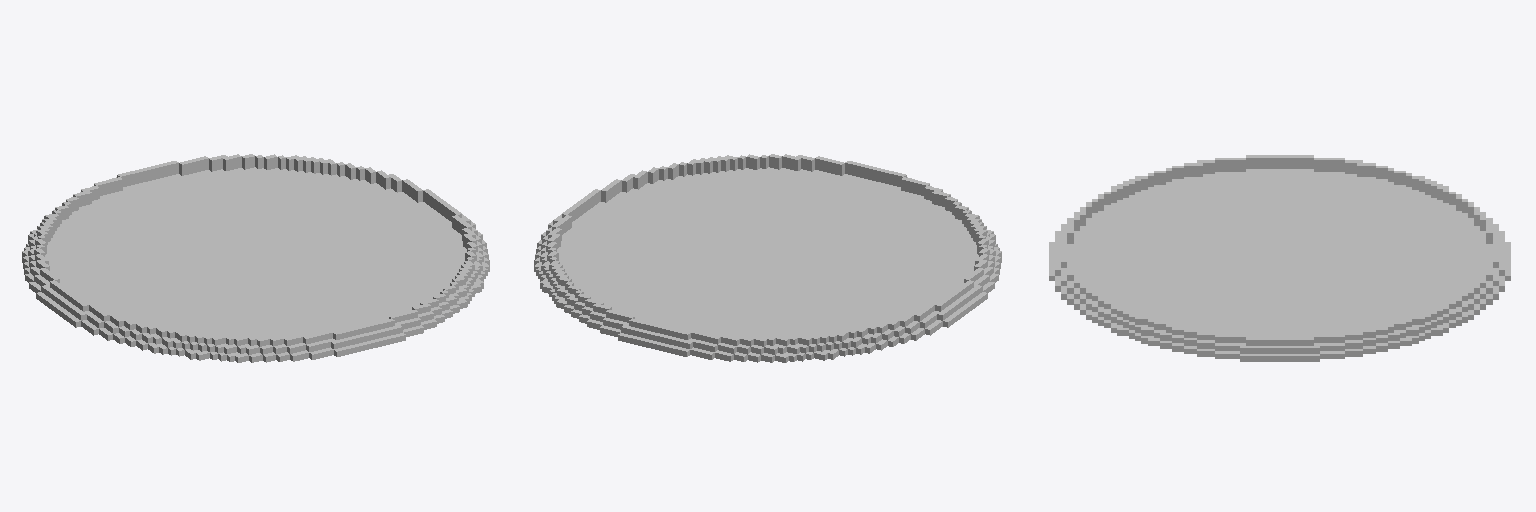
The model's file is pressure plate(nobuttonholo).obj.
3 renders of one model, left to right at view 1: azimuth 30°, elevation 25°; view 2: azimuth 150°, elevation 25°; view 3: azimuth 270°, elevation 25°, orthographic.
Bounding box in the file's own units: 75 × 3 × 75.